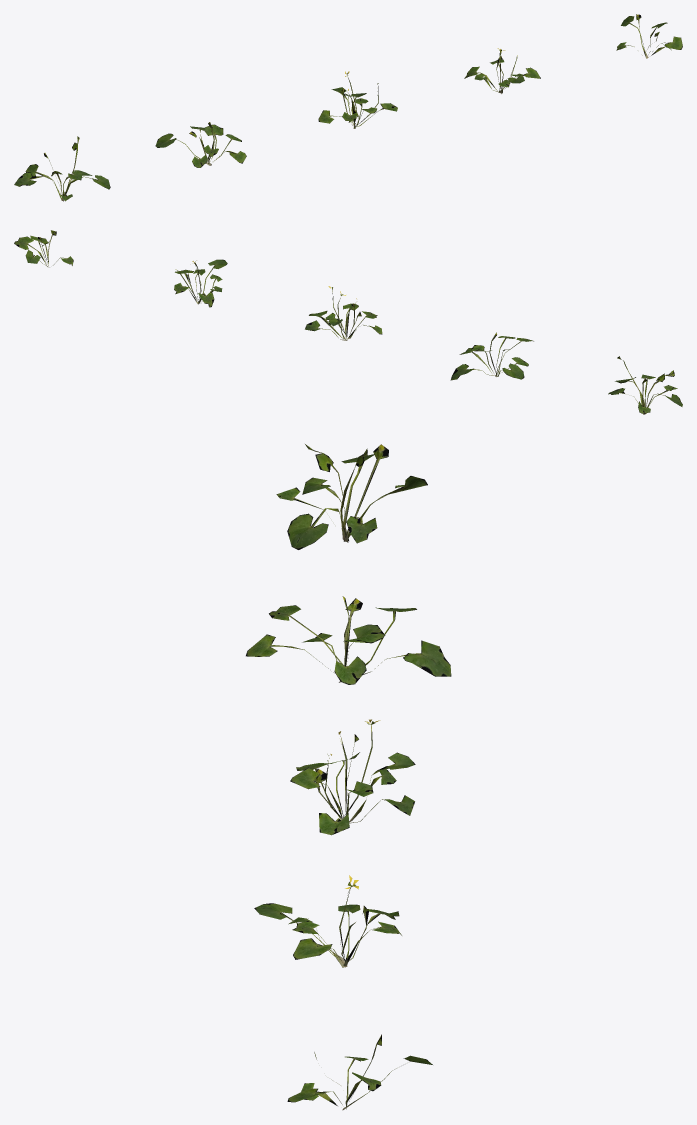
File: celandine_01.glb
The picture shows the model from 3 angles, top to bottom: view 1: azimuth 30°, elevation 25°; view 2: azimuth 150°, elevation 25°; view 3: azimuth 270°, elevation 25°; orthographic projection. The views are drawn at different scales.
Parts seen in each view (by area): view 1: celandine_01_a_LOD0; view 2: celandine_01_a_LOD0; view 3: celandine_01_a_LOD0.
Part boxes in pixels (<box>): celandine_01_a_LOD0: <box>14,14,682,201</box>; celandine_01_a_LOD0: <box>14,230,682,414</box>; celandine_01_a_LOD0: <box>246,444,451,1110</box>.
Bounding box in the file's own units: 2.24 × 0.185 × 0.3051.
Materials: 1 (1 with a texture image).
